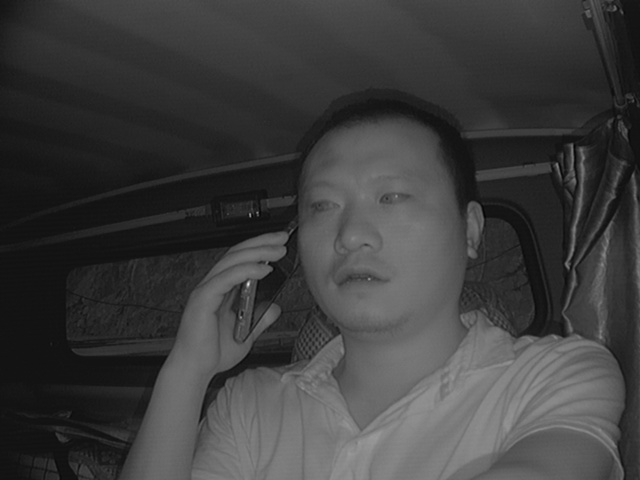hand: (178, 233, 287, 375)
